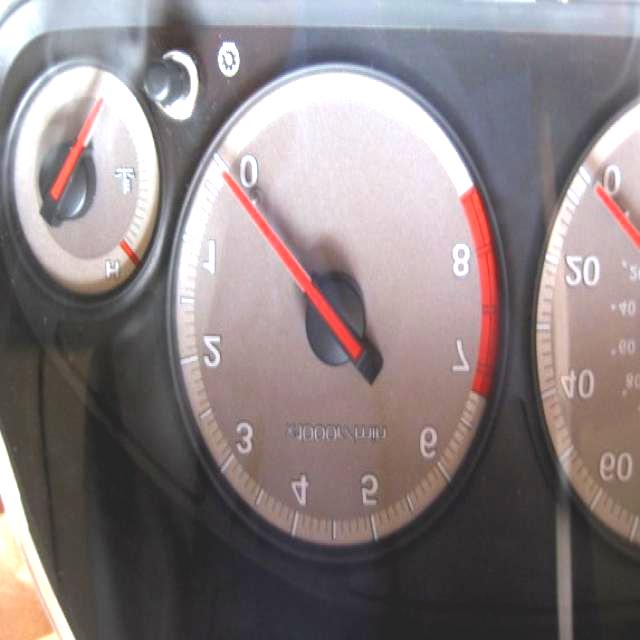Needle_Tip: (218, 159, 244, 203)
Needle_base: (300, 268, 373, 379)
max_value: (445, 234, 484, 292)
min_value: (233, 147, 265, 191)
